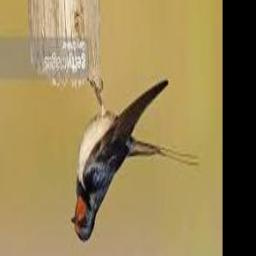Swallow: (71, 81, 199, 243)
